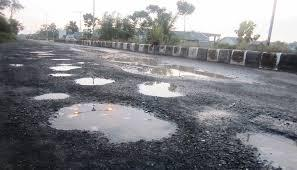Pothole: (46, 92, 178, 154), (71, 41, 237, 85), (230, 123, 297, 170), (129, 76, 185, 104), (192, 101, 237, 133), (43, 56, 90, 84), (69, 71, 121, 94), (32, 79, 70, 105), (20, 43, 62, 66), (1, 61, 30, 75)
